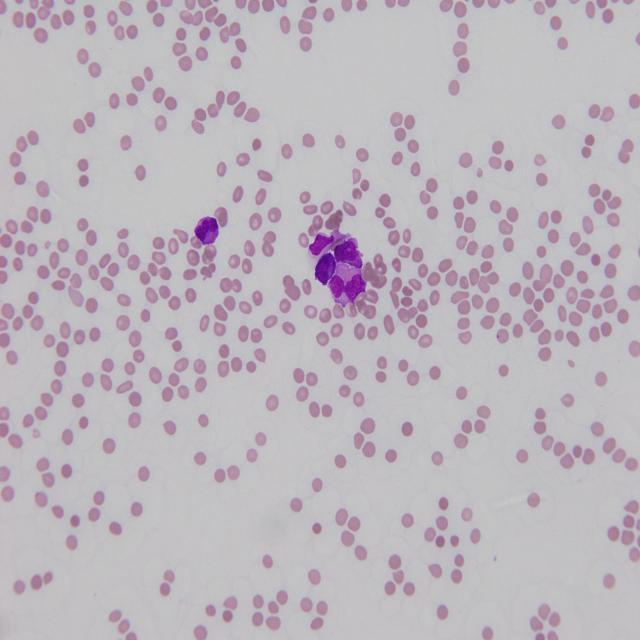cell: (309, 230, 350, 257), (334, 237, 362, 269), (315, 252, 336, 285), (194, 217, 219, 244)
